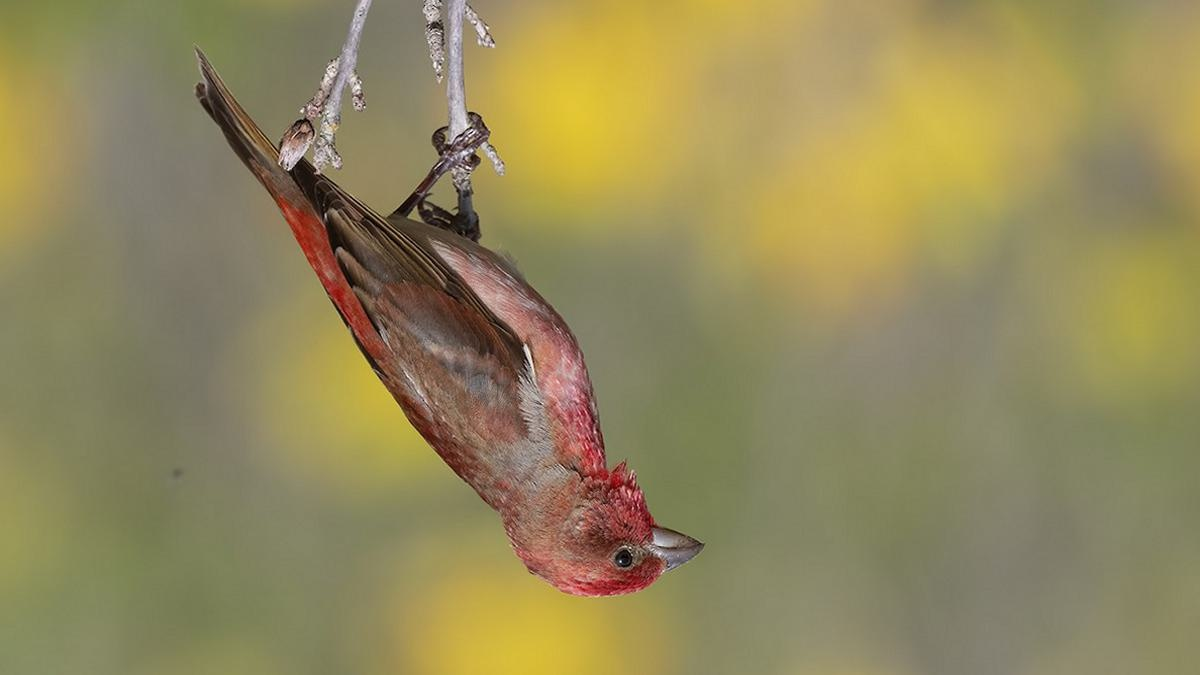rosefinch: (235, 65, 709, 632)
